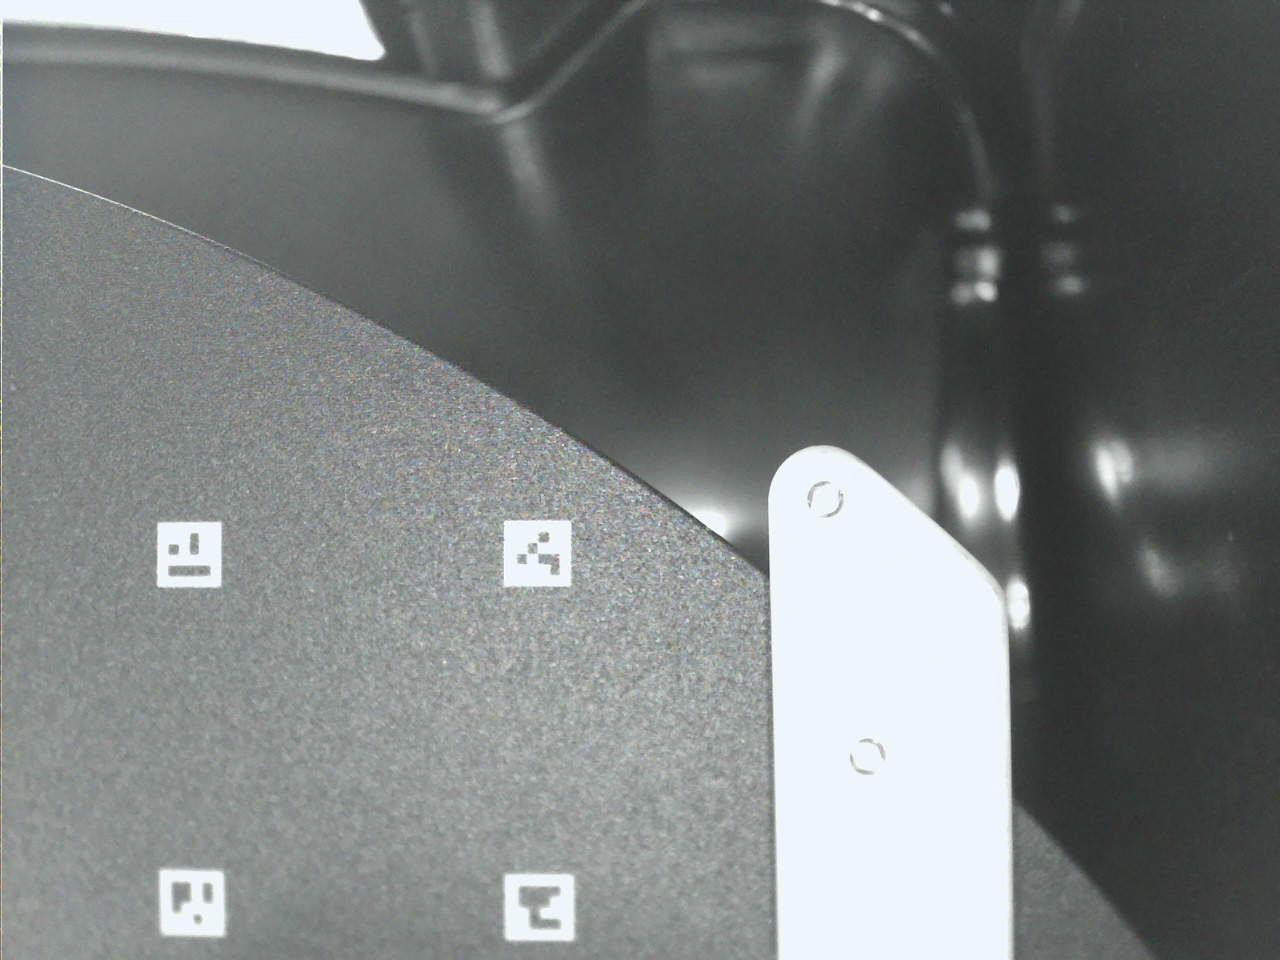forktip: (749, 421, 1031, 960)
